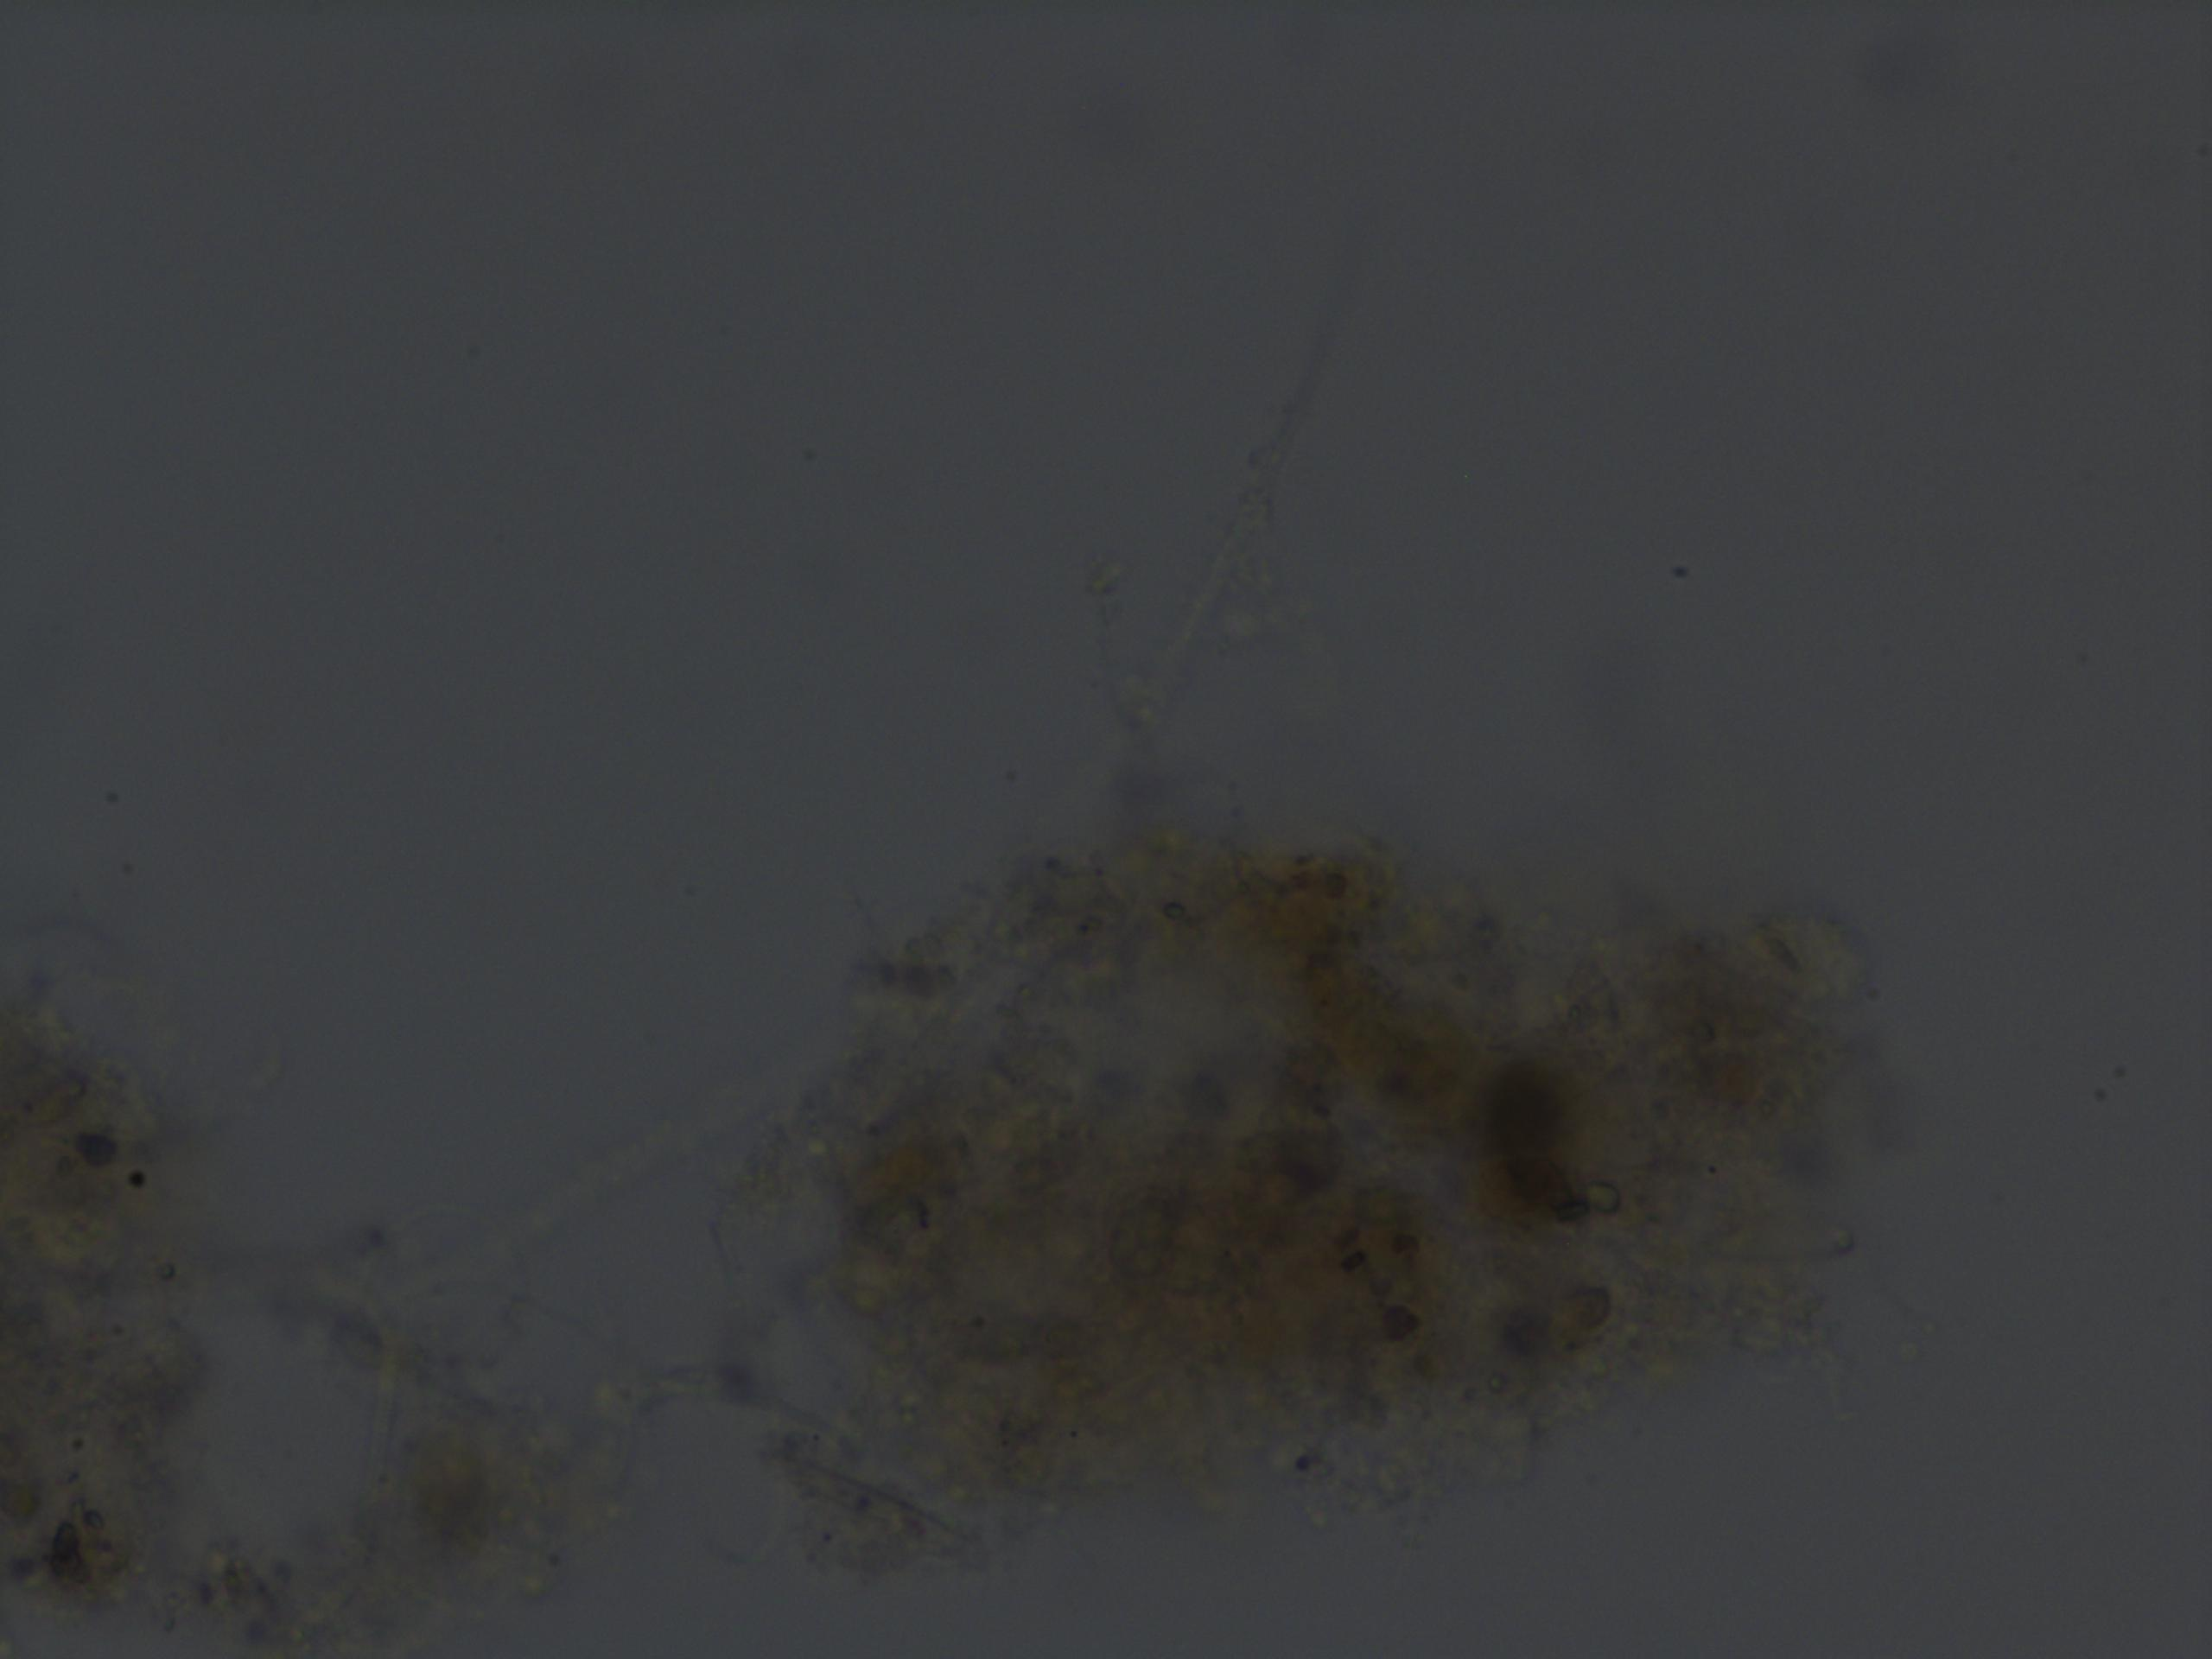filament: (993, 202, 1386, 835), (361, 896, 906, 1335)
